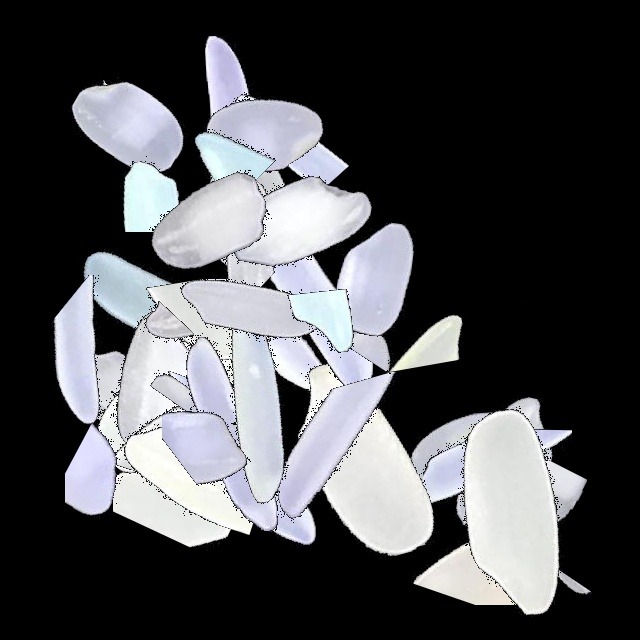Broken: (267, 346, 435, 596), (194, 236, 360, 486), (61, 378, 311, 544), (113, 334, 276, 584), (62, 226, 217, 476), (95, 141, 345, 295), (203, 0, 356, 250), (0, 275, 250, 426), (423, 378, 572, 628), (162, 291, 300, 541), (361, 472, 611, 605), (144, 296, 274, 546), (65, 364, 192, 614), (63, 359, 313, 485), (470, 390, 587, 640), (83, 279, 333, 393), (35, 26, 144, 276), (170, 9, 279, 259), (22, 123, 272, 232), (107, 309, 357, 415), (100, 289, 350, 394), (260, 272, 510, 372), (99, 329, 349, 427), (101, 234, 199, 484), (345, 194, 438, 444), (107, 288, 198, 538), (390, 550, 640, 640), (268, 211, 355, 461), (342, 289, 592, 375), (250, 210, 332, 460)
Full: (381, 340, 631, 590), (53, 183, 303, 433), (56, 278, 306, 528), (100, 66, 350, 316), (111, 18, 361, 268), (338, 327, 588, 577), (144, 78, 394, 328), (138, 8, 388, 258), (24, 260, 274, 510), (237, 333, 487, 583), (186, 178, 436, 428), (106, 365, 356, 615), (4, 0, 254, 250), (106, 307, 356, 557), (247, 154, 497, 404), (390, 390, 640, 640), (131, 283, 381, 533), (126, 180, 376, 430), (179, 97, 429, 347), (83, 100, 333, 350)
